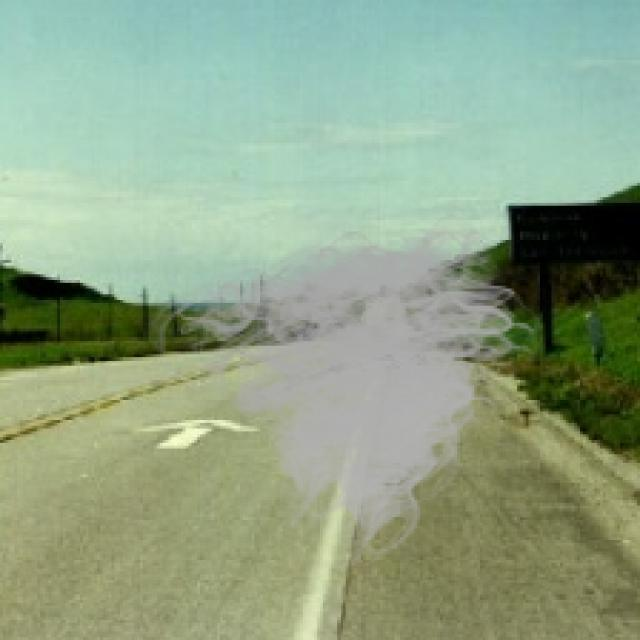Smoke: (143, 205, 552, 566)
